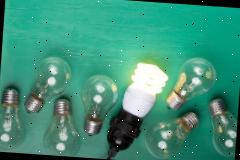lightbulb: (104, 60, 169, 160), (23, 54, 72, 116), (144, 107, 199, 160), (166, 56, 218, 112), (122, 62, 169, 120), (77, 74, 119, 138), (42, 97, 84, 157), (205, 97, 239, 157), (0, 86, 28, 153)
